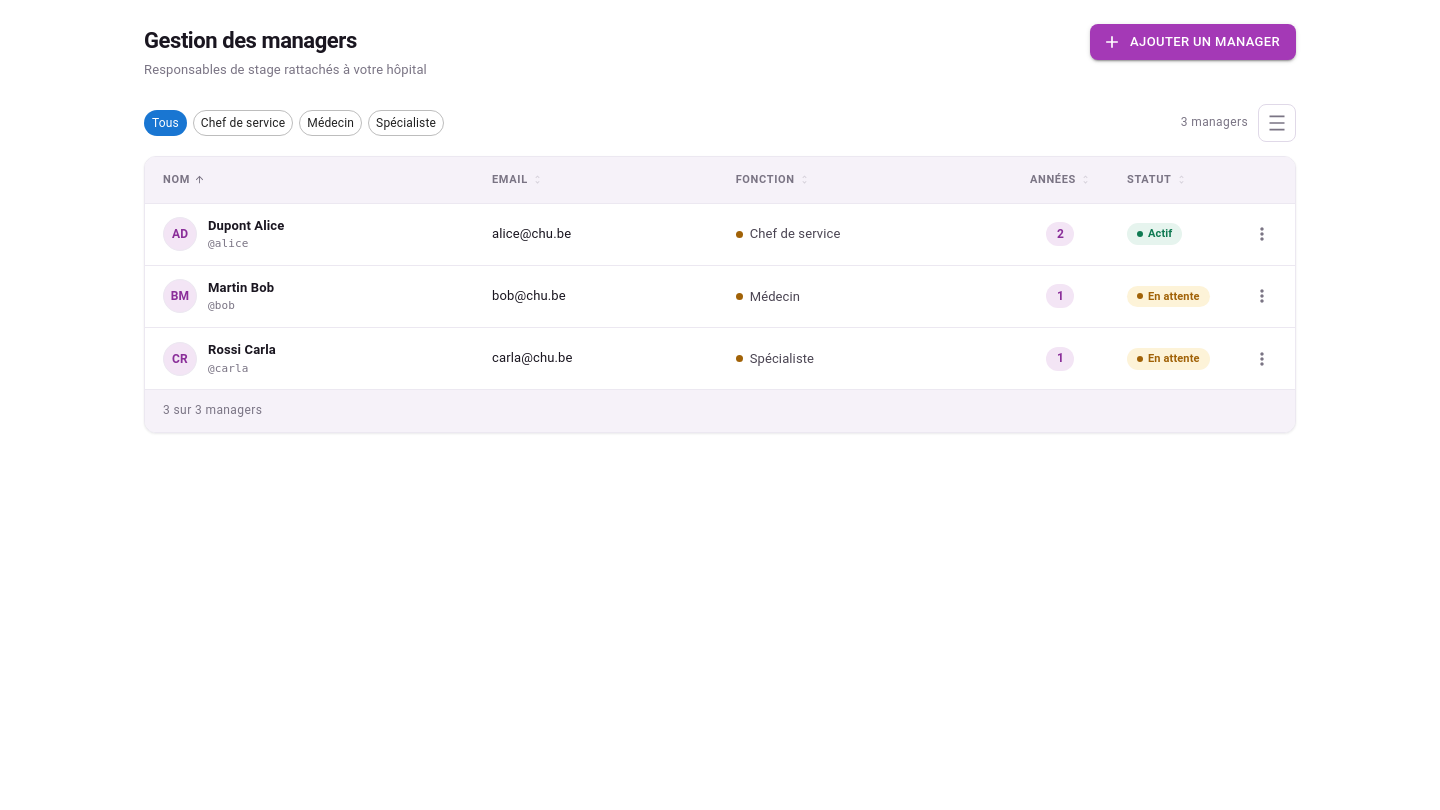
HospitalAdminManagersPage › 'Supprimer de l'hôpital' shows the correct confirmation text
This screenshot has width=1440, height=810.
Click the text "Dupont Alice".
click(246, 226)  # box left=208, top=216, right=284, bottom=235
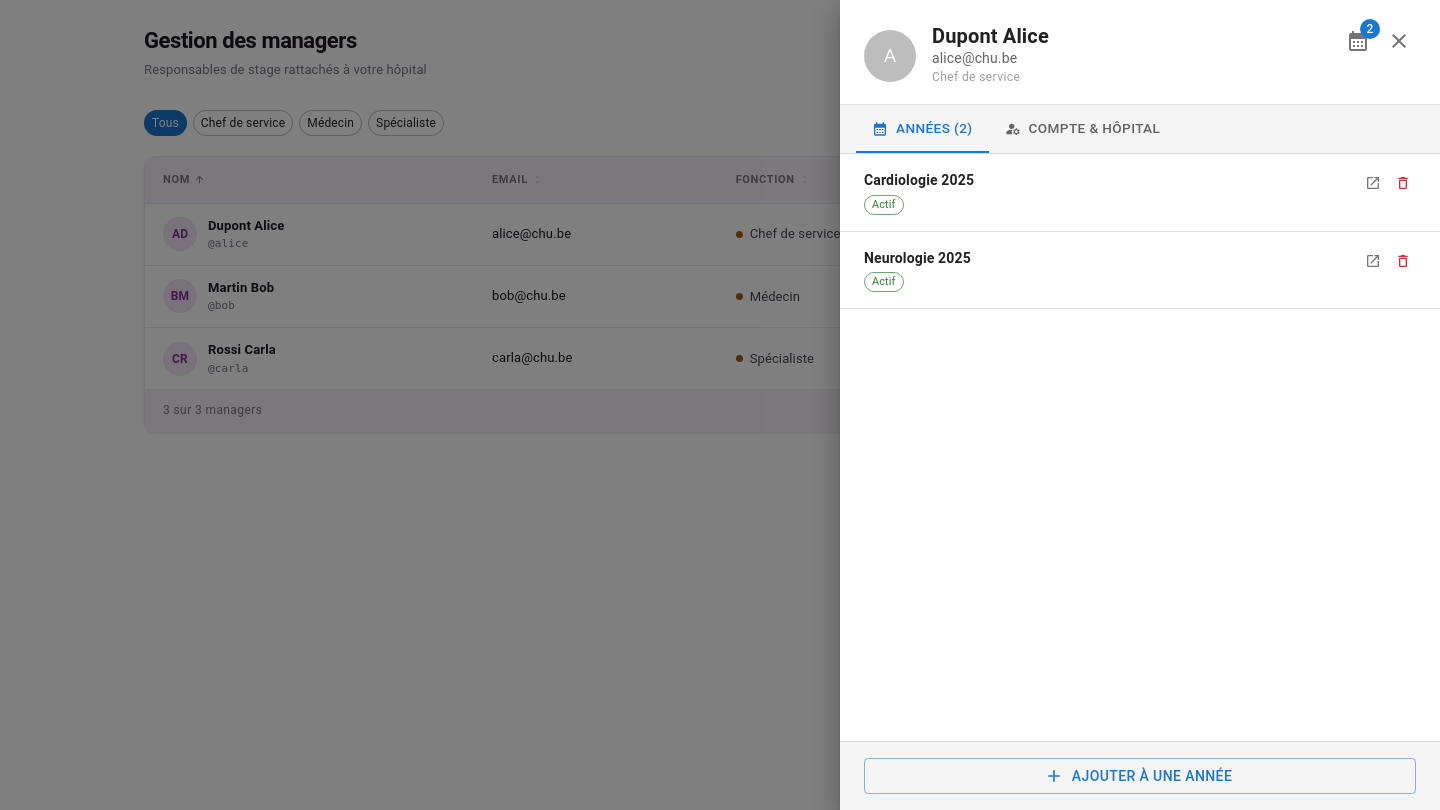
Expected: the tab "Compte & Hôpital" is shown
Click the tab "Compte & Hôpital".
click(1082, 129)  # box left=988, top=105, right=1176, bottom=153
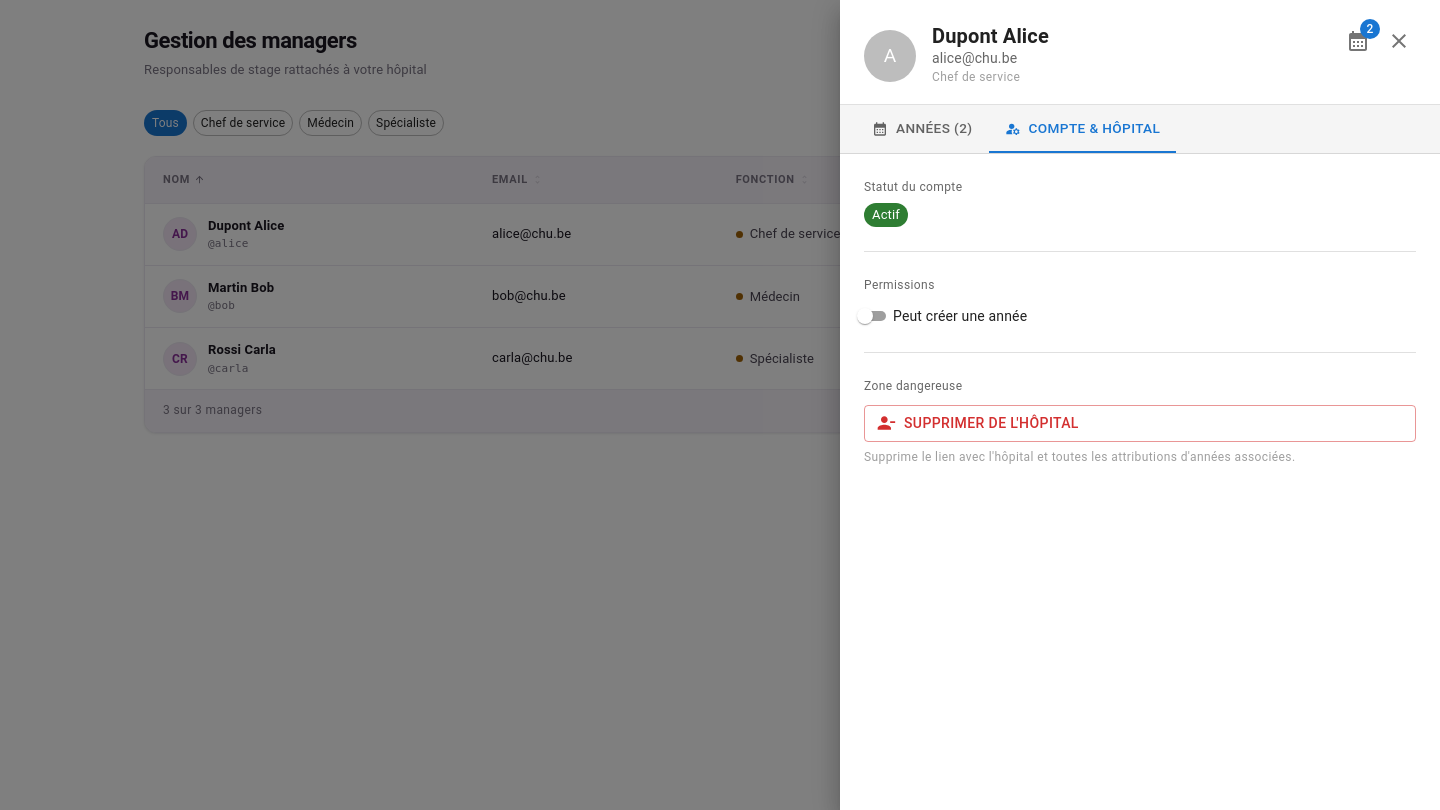
Expected: the button "Supprimer de l'hôpital" is shown
Click the button "Supprimer de l'hôpital".
click(991, 423)  # box left=864, top=405, right=1416, bottom=442
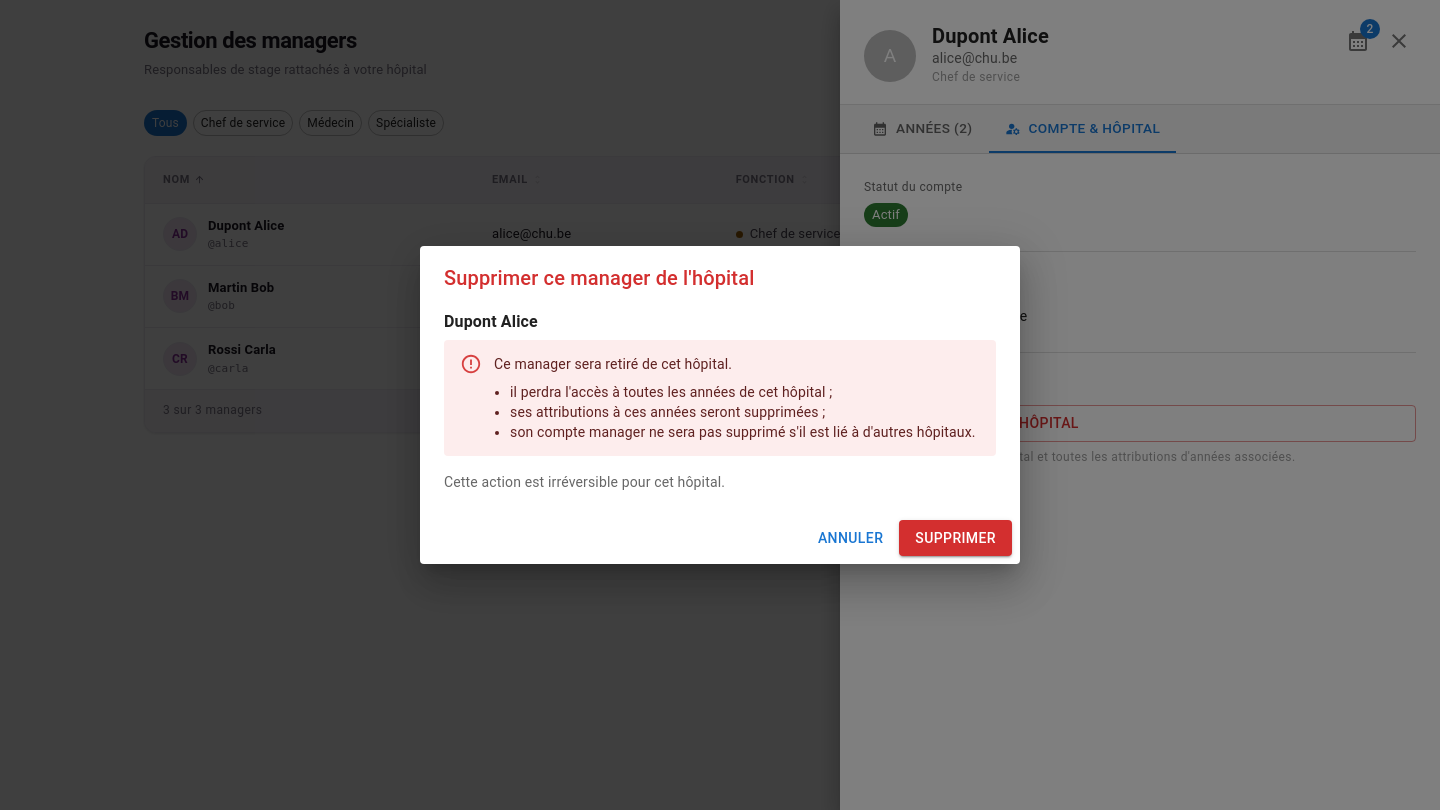
Expected: the heading "Supprimer ce manager de l'hôpital" is shown, left=444, top=266, right=754, bottom=290
Expected: the text "il perdra l'accès à toutes les années de cet hôpital ;" is shown, left=510, top=384, right=832, bottom=400
Expected: the text "Cette action est irréversible pour cet hôpital." is shown, left=444, top=474, right=725, bottom=490
